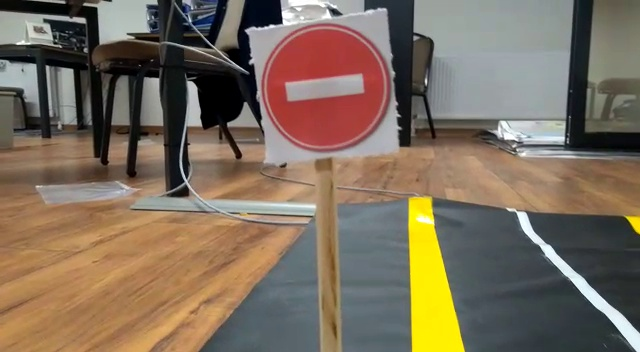girisi_olmayan_yol: (255, 22, 397, 153)
